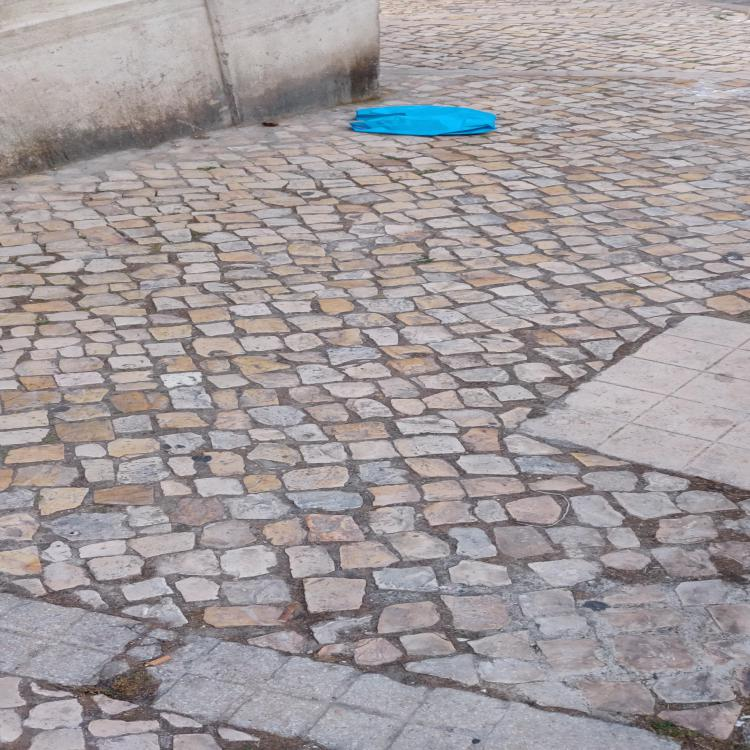Cigarette: (277, 601, 303, 622), (146, 655, 173, 666)
Single-use carrier bag: (349, 106, 498, 136)
